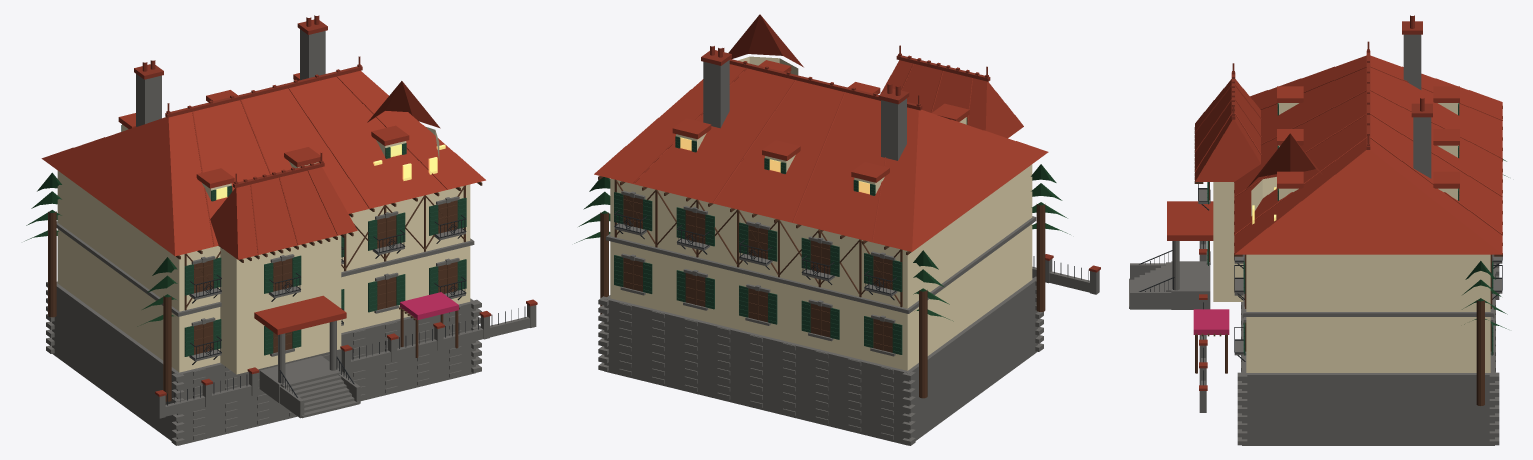
Rendered from fv_thd_13_villa_30_east_gate.glb.
3 views of the same model, side by side, from view 1: azimuth 30°, elevation 25°; view 2: azimuth 150°, elevation 25°; view 3: azimuth 270°, elevation 25° (orthographic). The views are drawn at different scales.
Visible parts, largest first — view 1: marseille_corrugated_roof_tiles, granite_foundation_and_stairs, stucco_facade_and_dormers, colombage_timber_and_eaves, pine_green_louvered_shutters, ridge_cresting_and_chimneys, wrought_iron_balconies_3d, pine_trees_and_garden_hedges, bougainvillea_pergola_clusters, warm_night_windows_ffb86c; view 2: marseille_corrugated_roof_tiles, granite_foundation_and_stairs, stucco_facade_and_dormers, colombage_timber_and_eaves, pine_green_louvered_shutters, ridge_cresting_and_chimneys, pine_trees_and_garden_hedges, wrought_iron_balconies_3d; view 3: marseille_corrugated_roof_tiles, stucco_facade_and_dormers, granite_foundation_and_stairs, colombage_timber_and_eaves, ridge_cresting_and_chimneys, bougainvillea_pergola_clusters, wrought_iron_balconies_3d, pine_green_louvered_shutters, pine_trees_and_garden_hedges.
Part boxes in pixels (bbox=[...]): marseille_corrugated_roof_tiles: bbox=[41, 70, 485, 334]; granite_foundation_and_stairs: bbox=[46, 29, 536, 445]; stucco_facade_and_dormers: bbox=[57, 124, 470, 374]; colombage_timber_and_eaves: bbox=[48, 182, 482, 401]; pine_green_louvered_shutters: bbox=[121, 125, 466, 356]; ridge_cresting_and_chimneys: bbox=[134, 15, 537, 396]; wrought_iron_balconies_3d: bbox=[167, 215, 525, 405]; pine_trees_and_garden_hedges: bbox=[24, 172, 177, 326]; bougainvillea_pergola_clusters: bbox=[400, 292, 458, 319]; warm_night_windows_ffb86c: bbox=[216, 144, 445, 199]; marseille_corrugated_roof_tiles: bbox=[594, 14, 1048, 251]; granite_foundation_and_stairs: bbox=[598, 60, 1099, 445]; stucco_facade_and_dormers: bbox=[610, 56, 1032, 370]; colombage_timber_and_eaves: bbox=[598, 176, 1045, 398]; pine_green_louvered_shutters: bbox=[614, 118, 967, 354]; ridge_cresting_and_chimneys: bbox=[701, 45, 1100, 272]; pine_trees_and_garden_hedges: bbox=[574, 164, 1070, 321]; wrought_iron_balconies_3d: bbox=[614, 210, 1088, 300]; marseille_corrugated_roof_tiles: bbox=[1167, 55, 1502, 254]; stucco_facade_and_dormers: bbox=[1213, 103, 1490, 372]; granite_foundation_and_stairs: bbox=[1129, 34, 1502, 445]; colombage_timber_and_eaves: bbox=[1194, 106, 1502, 405]; ridge_cresting_and_chimneys: bbox=[1199, 15, 1432, 390]; bougainvillea_pergola_clusters: bbox=[1193, 309, 1229, 334]; wrought_iron_balconies_3d: bbox=[1139, 184, 1502, 385]; pine_green_louvered_shutters: bbox=[1207, 103, 1493, 355]; pine_trees_and_garden_hedges: bbox=[1462, 159, 1508, 329].
Bounding box in the file's own units: 26.52 × 20.73 × 23.59.
